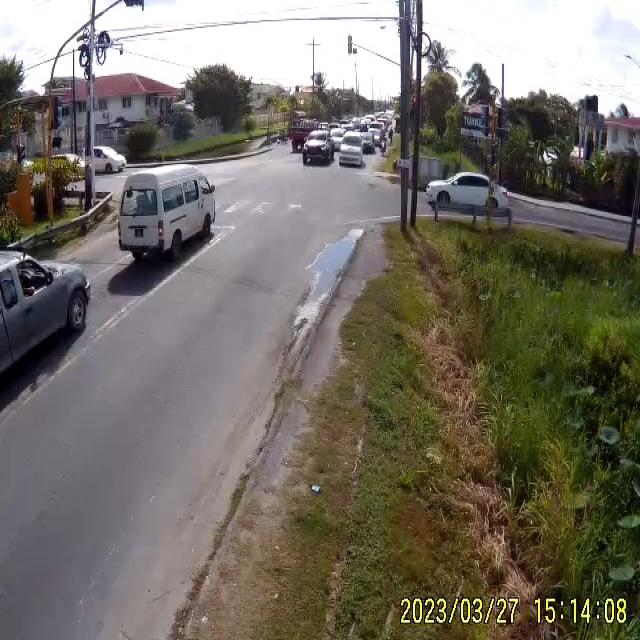car: (1, 239, 93, 448), (115, 168, 216, 262), (425, 172, 511, 218), (302, 132, 334, 167), (90, 147, 126, 174), (337, 140, 363, 168)
